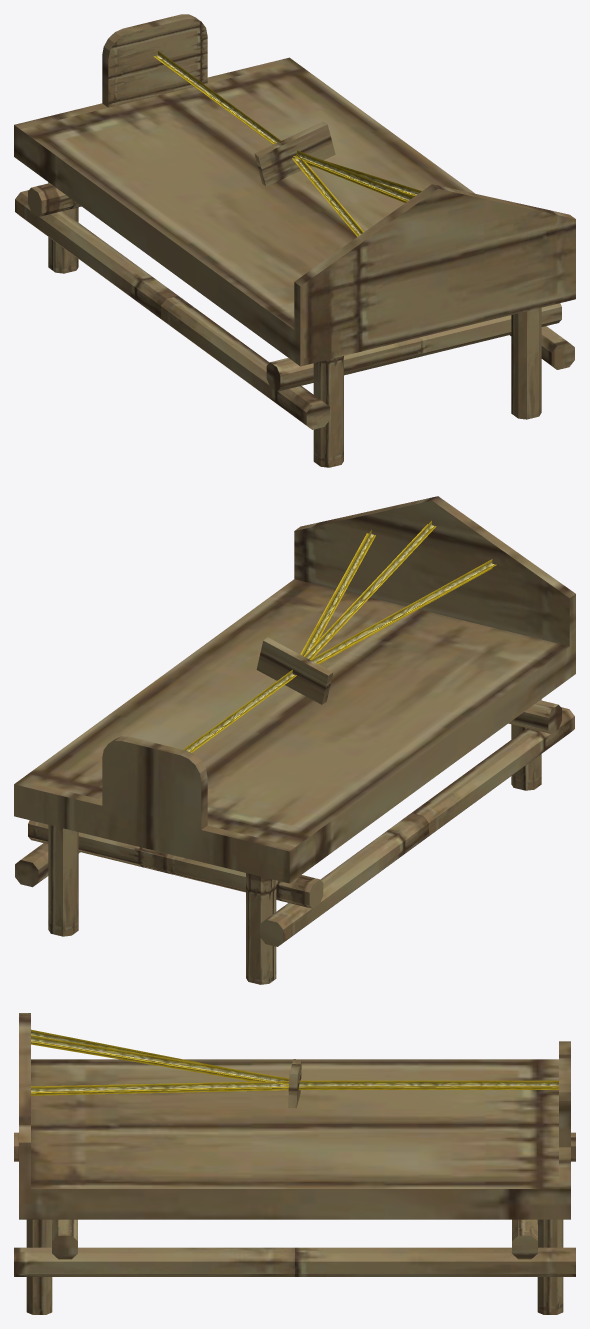
The model's file is cordier.glb.
3 views of the same model, one above another, from view 1: azimuth 30°, elevation 25°; view 2: azimuth 150°, elevation 25°; view 3: azimuth 270°, elevation 25° (orthographic). The views are drawn at different scales.
Visible parts, largest first — view 1: top, legs, strings; view 2: top, legs, strings; view 3: top, legs, strings.
Boxes of the visible parts, left/top/right/bottom form: top: left=14, top=14, right=575, bottom=366; legs: left=15, top=182, right=574, bottom=467; strings: left=153, top=51, right=421, bottom=236; top: left=14, top=496, right=575, bottom=883; legs: left=15, top=699, right=574, bottom=984; strings: left=183, top=521, right=496, bottom=752; top: left=19, top=1013, right=570, bottom=1219; legs: left=14, top=1132, right=575, bottom=1314; strings: left=31, top=1029, right=558, bottom=1108.
Size of the model in its own units: 1.84 by 1.6 by 3.3.
1 material, 1 textured.
